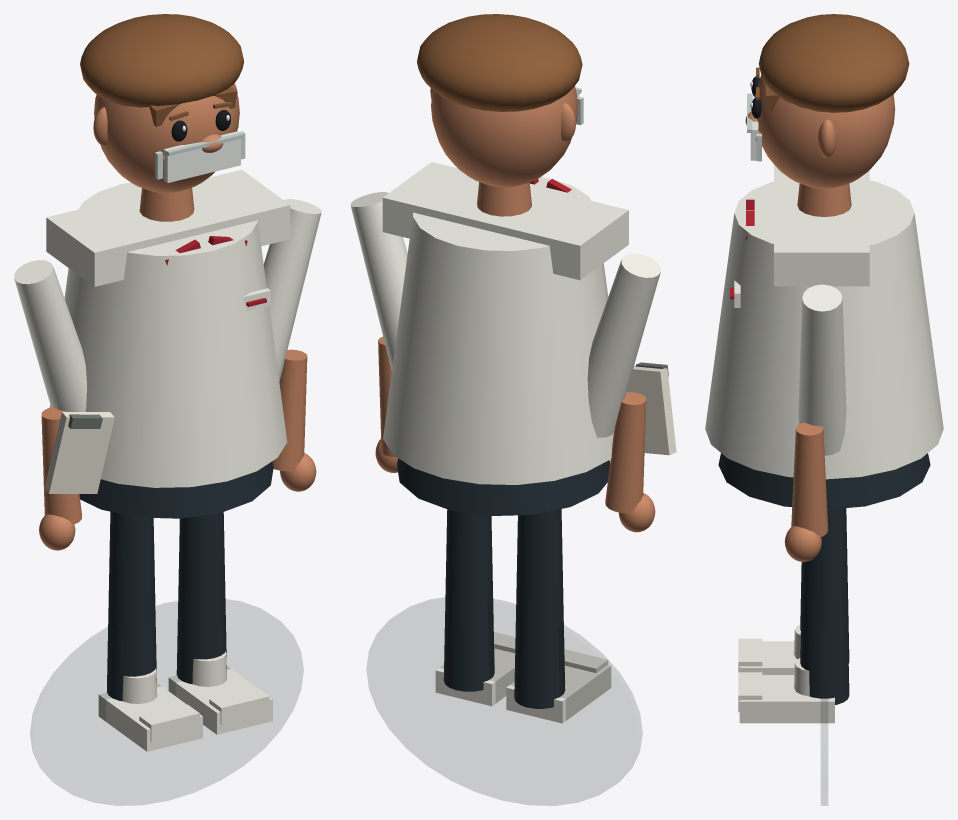
File: staff_02_sgk.glb
The picture shows the model from 3 angles, left to right: view 1: azimuth 30°, elevation 25°; view 2: azimuth 150°, elevation 25°; view 3: azimuth 270°, elevation 25°; orthographic projection. The views are drawn at different scales.
Parts seen in each view (by area): view 1: torso, contact_shadow, shoulder_line, hair_cap, leg_-0.075, leg_0.075, head, upper_arm_-0.235, hip, upper_arm_0.235, clipboard, shoe_-0.075 (+11 smaller); view 2: torso, contact_shadow, hair_cap, shoulder_line, leg_-0.075, head, leg_0.075, upper_arm_-0.235, hip, upper_arm_0.235, forearm_-0.235, clipboard (+6 smaller); view 3: torso, hair_cap, head, shoulder_line, leg_0.075, upper_arm_0.235, hip, forearm_0.235, shoe_0.075, neck, shoe_-0.075, contact_shadow (+5 smaller).
Boxes of the visible parts, left/top/right/bottom form: torso: left=49, top=182, right=287, bottom=487; contact_shadow: left=30, top=599, right=303, bottom=805; shoulder_line: left=46, top=169, right=290, bottom=286; hair_cap: left=80, top=14, right=243, bottom=107; leg_-0.075: left=106, top=511, right=156, bottom=701; leg_0.075: left=176, top=512, right=226, bottom=683; head: left=94, top=84, right=239, bottom=192; upper_arm_-0.235: left=14, top=260, right=86, bottom=411; hip: left=79, top=461, right=273, bottom=518; upper_arm_0.235: left=263, top=199, right=321, bottom=381; clipboard: left=44, top=412, right=114, bottom=493; shoe_-0.075: left=98, top=683, right=202, bottom=751; torso: left=383, top=177, right=613, bottom=484; contact_shadow: left=367, top=598, right=642, bottom=805; hair_cap: left=417, top=14, right=582, bottom=111; shoulder_line: left=382, top=162, right=628, bottom=279; leg_-0.075: left=514, top=509, right=565, bottom=708; head: left=431, top=86, right=577, bottom=187; leg_0.075: left=443, top=509, right=494, bottom=691; upper_arm_-0.235: left=587, top=253, right=660, bottom=437; hip: left=397, top=458, right=609, bottom=515; upper_arm_0.235: left=350, top=192, right=407, bottom=370; forearm_-0.235: left=605, top=392, right=646, bottom=513; clipboard: left=626, top=365, right=676, bottom=455; torso: left=705, top=180, right=943, bottom=479; hair_cap: left=758, top=14, right=909, bottom=112; head: left=755, top=75, right=895, bottom=188; shoulder_line: left=774, top=164, right=869, bottom=286; leg_0.075: left=800, top=508, right=849, bottom=704; upper_arm_0.235: left=798, top=284, right=846, bottom=455; hip: left=718, top=453, right=930, bottom=509; forearm_0.235: left=791, top=422, right=828, bottom=537; shoe_0.075: left=739, top=675, right=834, bottom=723; neck: left=797, top=183, right=851, bottom=216; shoe_-0.075: left=739, top=641, right=797, bottom=674; contact_shadow: left=821, top=629, right=827, bottom=805.
Size of the model in its own units: 0.6685 by 1.62 by 0.4635.
